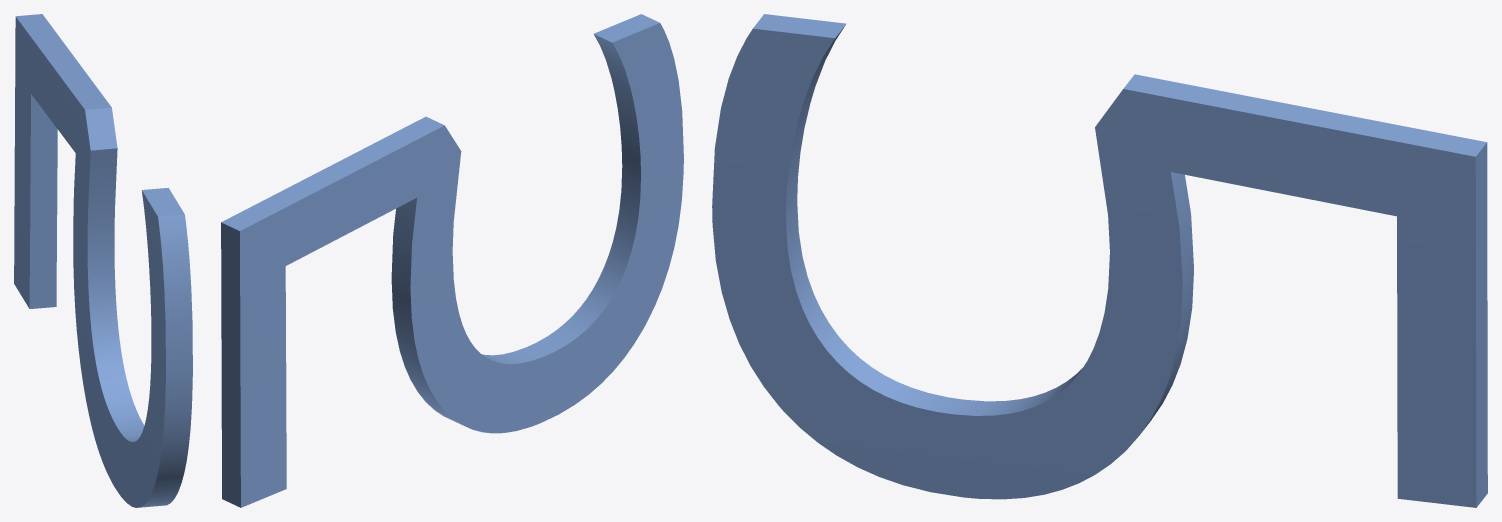
Rendered from New_Number_5.gltf.
The picture shows the model from 3 angles, left to right: view 1: azimuth 30°, elevation 25°; view 2: azimuth 150°, elevation 25°; view 3: azimuth 270°, elevation 25°; orthographic projection. The views are drawn at different scales.
Visible parts, largest first — view 1: Part 671; view 2: Part 671; view 3: Part 671.
Boxes of the visible parts, x1,y1,x2,y2 form: Part 671: (14,14,192,507); Part 671: (221,14,683,507); Part 671: (712,14,1487,507).
Size of the model in its own units: 0.00173 by 0.00346 by 0.00546.
